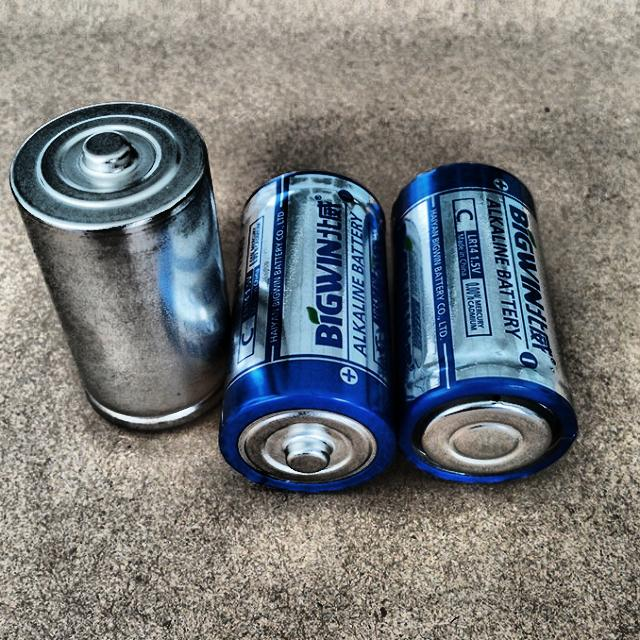Non-Valuable Waste - Batteries: (10, 103, 229, 429), (393, 164, 577, 482), (219, 172, 395, 492)
